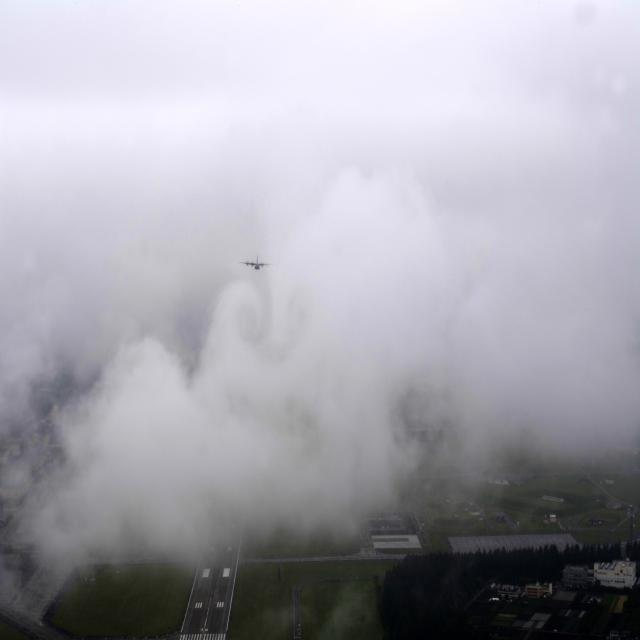MIL_Plane: (238, 254, 276, 270)
